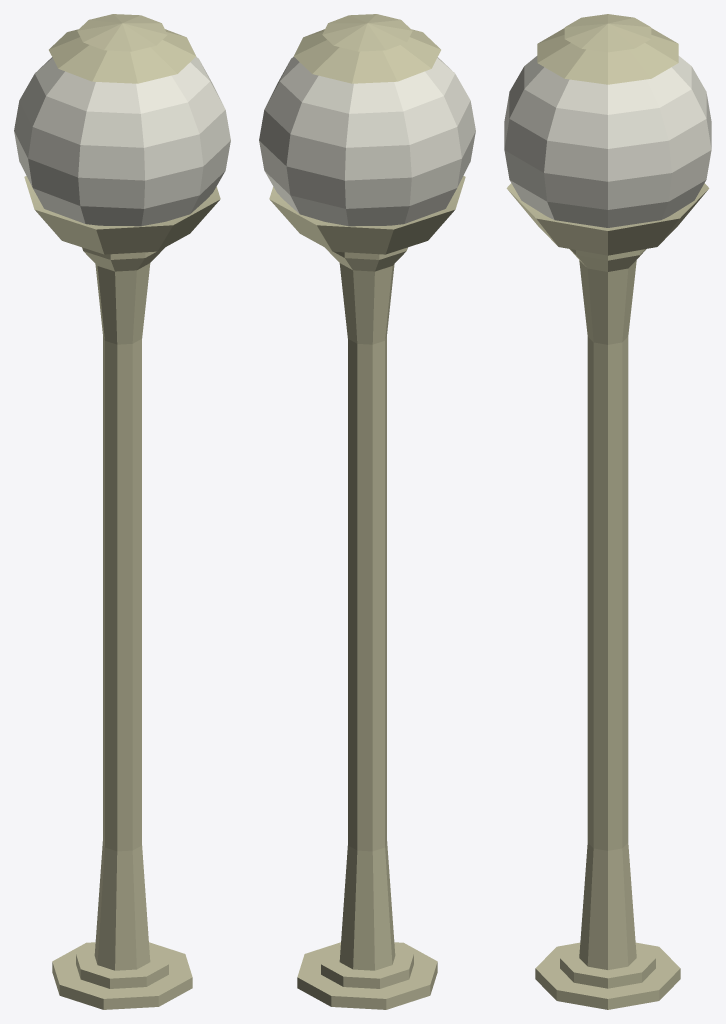
Rendered from Lantern_01.fbx.
The picture shows the model from 3 angles, left to right: view 1: azimuth 30°, elevation 25°; view 2: azimuth 150°, elevation 25°; view 3: azimuth 270°, elevation 25°; orthographic projection.
Parts seen in each view (by area): view 1: pSphere2; view 2: pSphere2; view 3: pSphere2.
Boxes of the visible parts, x1,y1,x2,y2 form: pSphere2: (14, 14, 230, 1009); pSphere2: (259, 14, 475, 1009); pSphere2: (504, 14, 711, 1009).
Bounding box in the file's own units: 16.42 × 79.5 × 15.62.
